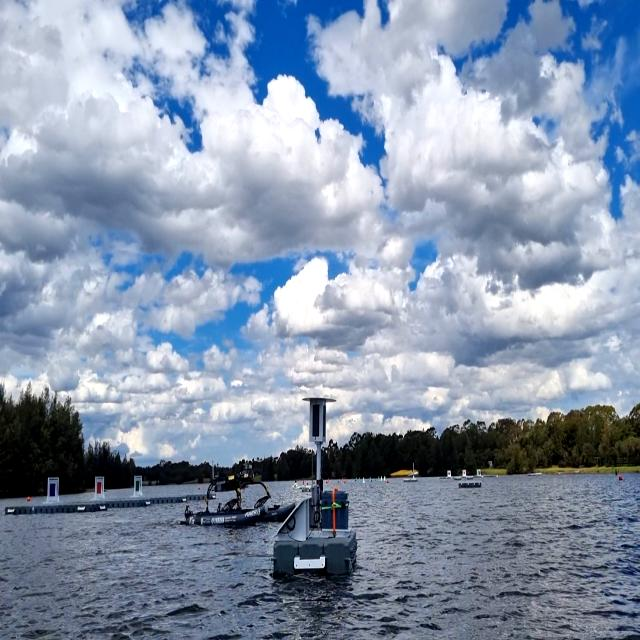led: (311, 403, 321, 440)
